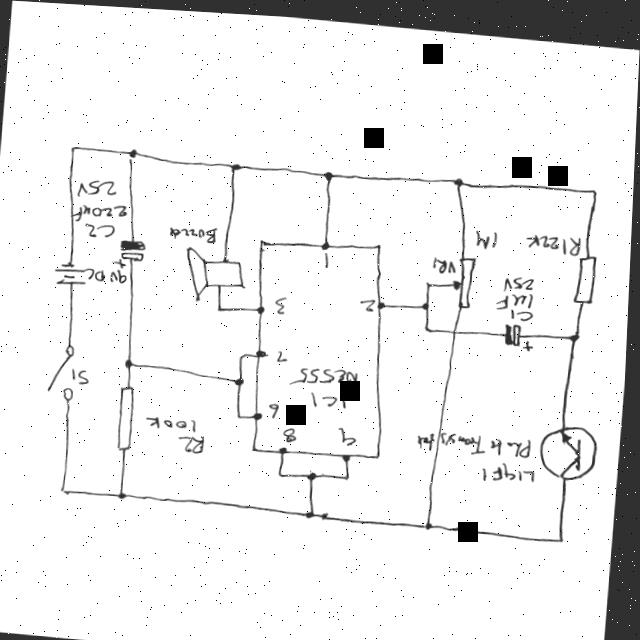capacitor: (111, 235, 147, 267), (504, 313, 537, 346)
crossover: (448, 316, 466, 333)
junction: (426, 512, 438, 525), (307, 502, 319, 515), (277, 463, 289, 476), (422, 338, 434, 351), (124, 354, 137, 366), (61, 481, 73, 494), (559, 525, 571, 537), (308, 465, 320, 477), (344, 465, 356, 477), (570, 323, 582, 335), (423, 317, 435, 329), (421, 294, 433, 306), (423, 273, 435, 285), (589, 178, 601, 190), (452, 169, 464, 181), (323, 165, 335, 177), (230, 158, 242, 170), (215, 298, 227, 310), (127, 145, 139, 157), (68, 141, 80, 153), (236, 372, 248, 384), (236, 346, 248, 358), (236, 405, 248, 417), (120, 486, 132, 498)
resistor: (116, 381, 140, 449), (452, 247, 479, 304), (573, 247, 599, 296)
source: (54, 258, 90, 288)
switch: (49, 343, 81, 402)
text: (418, 422, 537, 455), (73, 175, 129, 236), (289, 359, 362, 405), (496, 266, 538, 316), (483, 453, 540, 479), (525, 223, 583, 248), (147, 409, 202, 431), (170, 218, 220, 241), (177, 428, 208, 451), (474, 220, 499, 243), (432, 248, 458, 269), (71, 362, 93, 386), (338, 420, 360, 441), (275, 289, 290, 313), (320, 244, 335, 266), (284, 420, 301, 439), (267, 396, 284, 414), (275, 343, 292, 361), (361, 291, 377, 310)
transistor: (539, 414, 604, 474)
